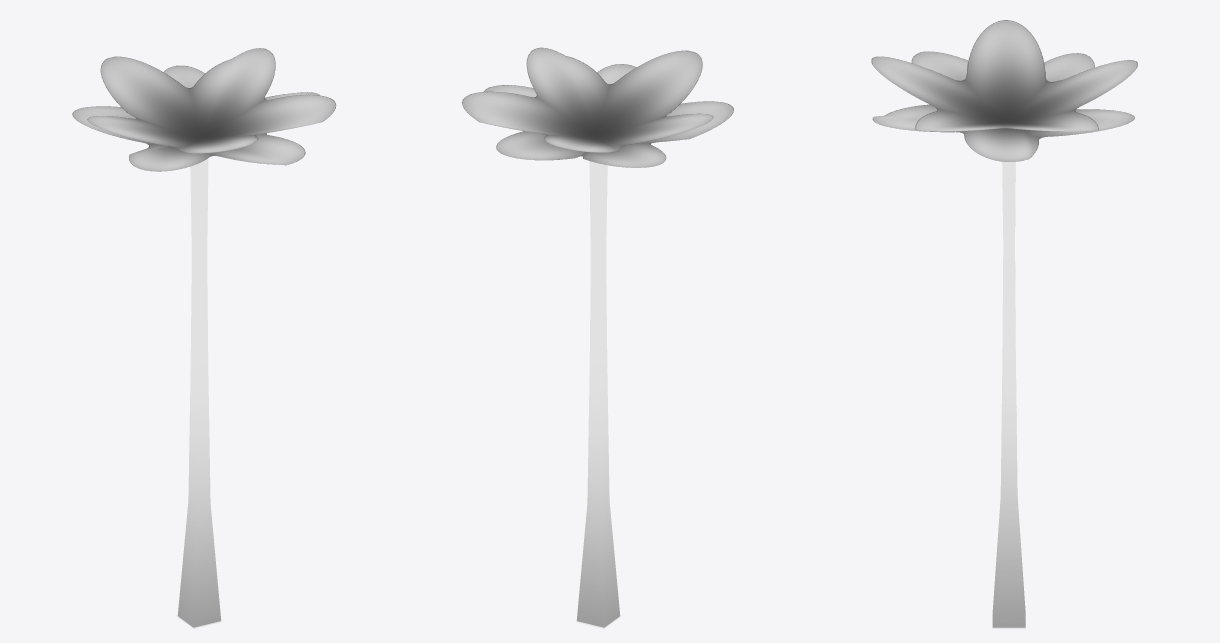
File: SM_FlowerSingle_02_Unity.fbx
3 views of the same model, side by side, from view 1: azimuth 30°, elevation 25°; view 2: azimuth 150°, elevation 25°; view 3: azimuth 270°, elevation 25° (orthographic). The views are drawn at different scales.
Visible parts, largest first — view 1: SM_FlowerSingle_02_LOD0; view 2: SM_FlowerSingle_02_LOD0; view 3: SM_FlowerSingle_02_LOD0.
Part boxes in pixels (x1,y1,x2,y2): SM_FlowerSingle_02_LOD0: (72, 48, 336, 628); SM_FlowerSingle_02_LOD0: (462, 47, 733, 628); SM_FlowerSingle_02_LOD0: (871, 20, 1137, 628).
Size of what is drawn, in the model's own units: 0.3014 by 0.4631 by 0.3014.
